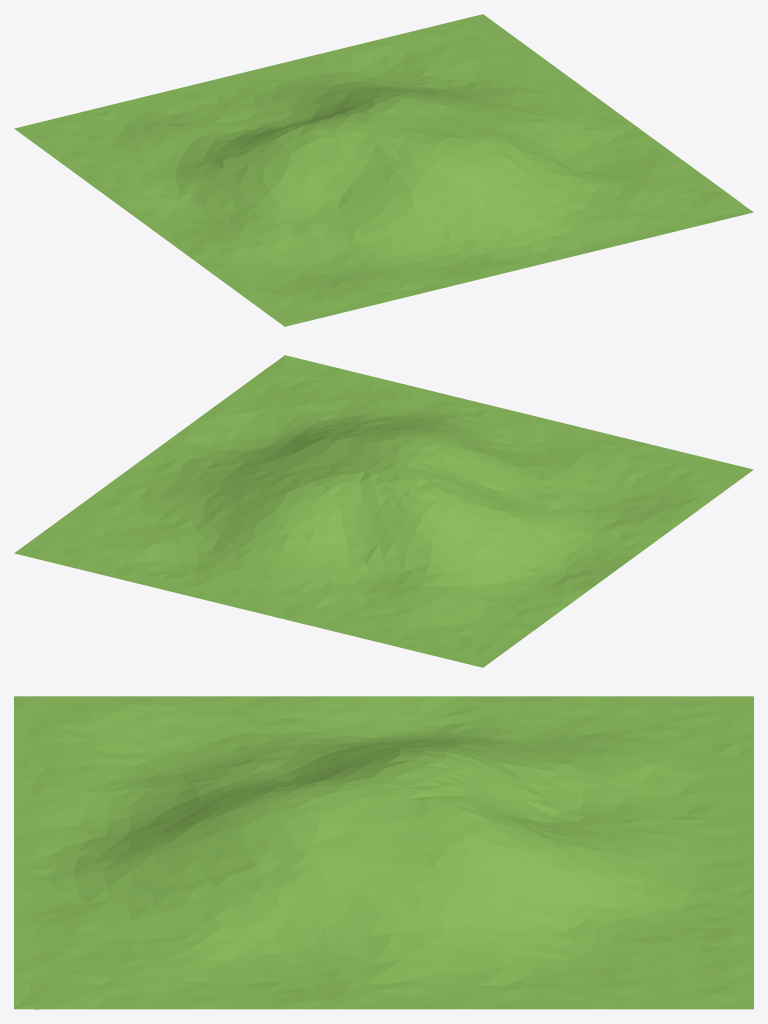
File: MT_Terrain_L_a_11_LOD.fbx
3 renders of one model, top to bottom at view 1: azimuth 30°, elevation 25°; view 2: azimuth 150°, elevation 25°; view 3: azimuth 270°, elevation 25°, orthographic. The views are drawn at different scales.
Visible parts, largest first — view 1: MT_Terrain_L_a_11_LOD0; view 2: MT_Terrain_L_a_11_LOD0; view 3: MT_Terrain_L_a_11_LOD0.
Boxes of the visible parts, x1,y1,x2,y2 form: MT_Terrain_L_a_11_LOD0: (14,14,753,326); MT_Terrain_L_a_11_LOD0: (14,355,753,667); MT_Terrain_L_a_11_LOD0: (14,696,753,1009).
Size of what is drawn, in the model's own units: 10000 by 1062 by 10000.
